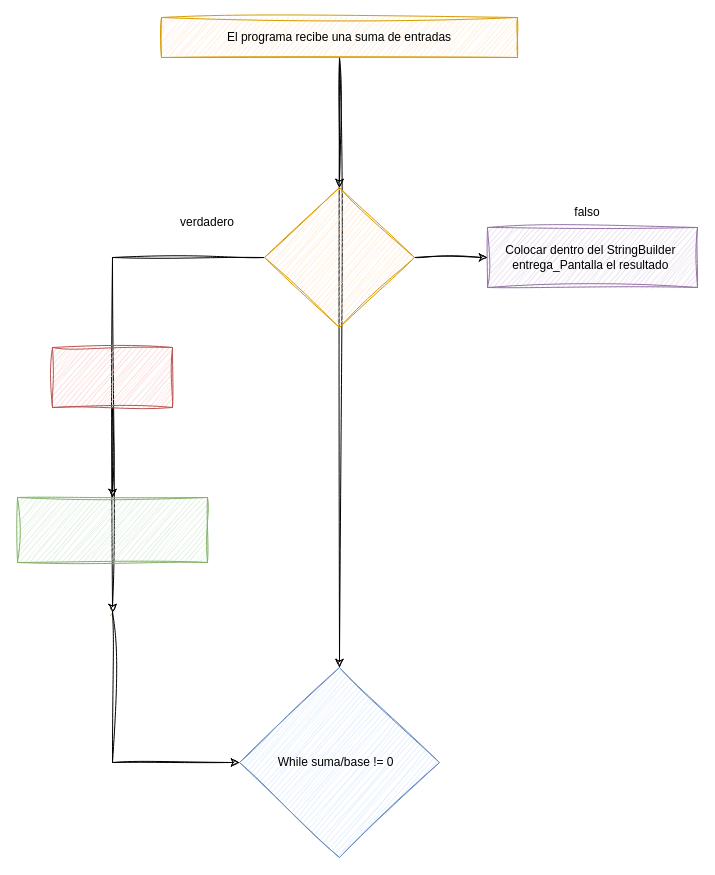
This 715x875 diagram has some shape labels left out. The box of each missing label's shape, as (x1, y1, x2, y2) in pixels:
Crear arreglo tipo char: (52, 346, 172, 408)
Realiza la operación suma/base: (264, 186, 414, 328)
